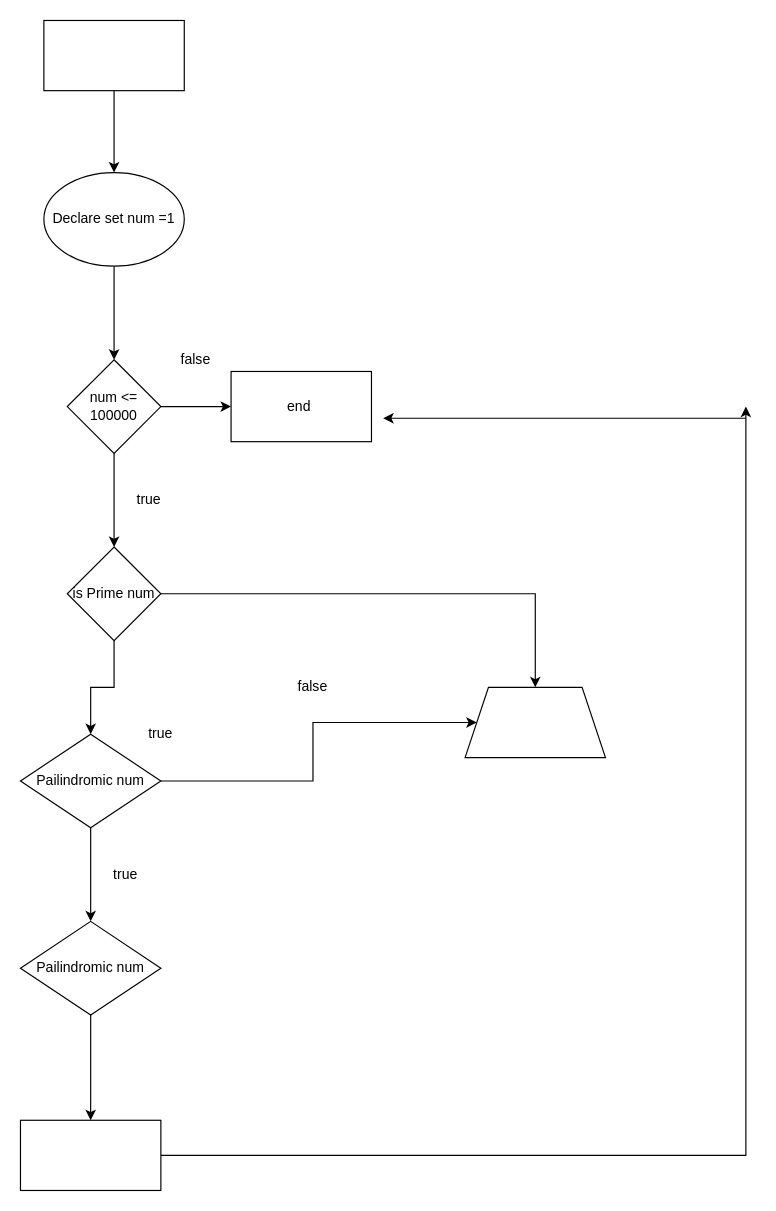
The diagram is 776 pixels wide and 1211 high, and some of its shapes have lost their labels. The centre of each missing label's shape, as x and y in pixels:
outout: "is not prime and palondromic num": pixel 534 722
output "is a prime and palondromic num": pixel 90 1154
START: pixel 113 55
